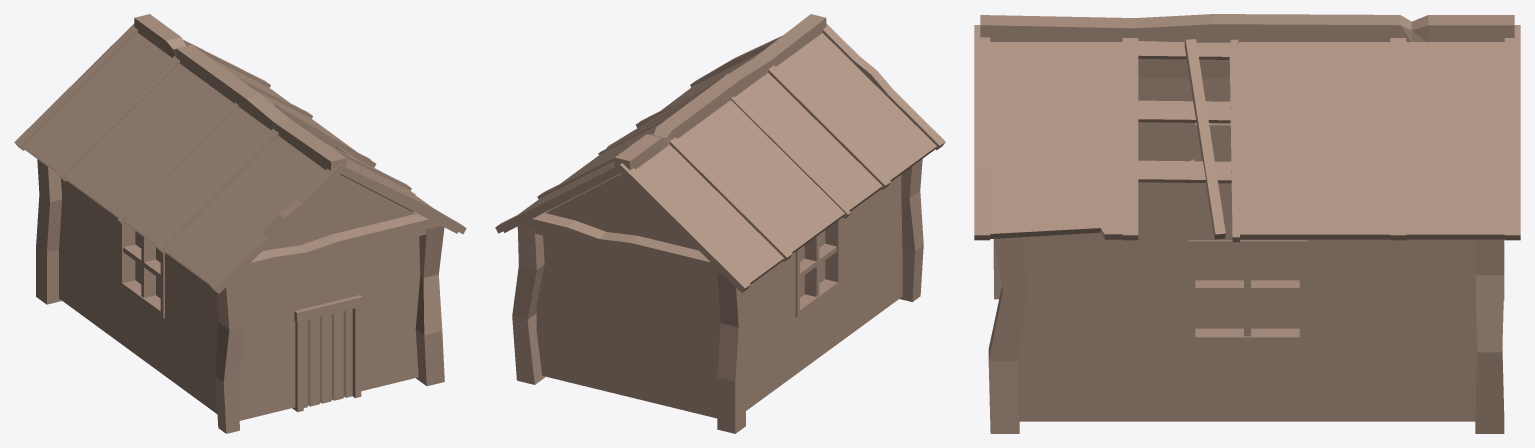
File: Cottage_9.fbx
3 views of the same model, side by side, from view 1: azimuth 30°, elevation 25°; view 2: azimuth 150°, elevation 25°; view 3: azimuth 270°, elevation 25° (orthographic). The views are drawn at different scales.
Parts seen in each view (by area): view 1: outwall, roof, roof_frame, outwall_frame, door, door_frame, window_frame; view 2: outwall, roof, roof_frame, outwall_frame, window_frame; view 3: outwall, roof, roof_frame, outwall_frame, window_frame.
Boxes of the visible parts, x1,y1,x2,y2 form: outwall: [59, 174, 420, 420]; roof: [23, 33, 458, 284]; roof_frame: [14, 14, 466, 293]; outwall_frame: [36, 159, 444, 433]; door: [303, 309, 352, 407]; door_frame: [292, 295, 362, 412]; window_frame: [119, 222, 164, 318]; outwall: [536, 173, 902, 418]; roof: [503, 33, 936, 283]; roof_frame: [495, 14, 945, 292]; outwall_frame: [512, 159, 923, 433]; window_frame: [795, 218, 841, 317]; outwall: [1018, 78, 1477, 421]; roof: [990, 42, 1504, 239]; roof_frame: [974, 14, 1520, 242]; outwall_frame: [988, 237, 1504, 433]; window_frame: [1187, 123, 1307, 343].
Bounding box in the file's own units: 162 × 225 × 156.
